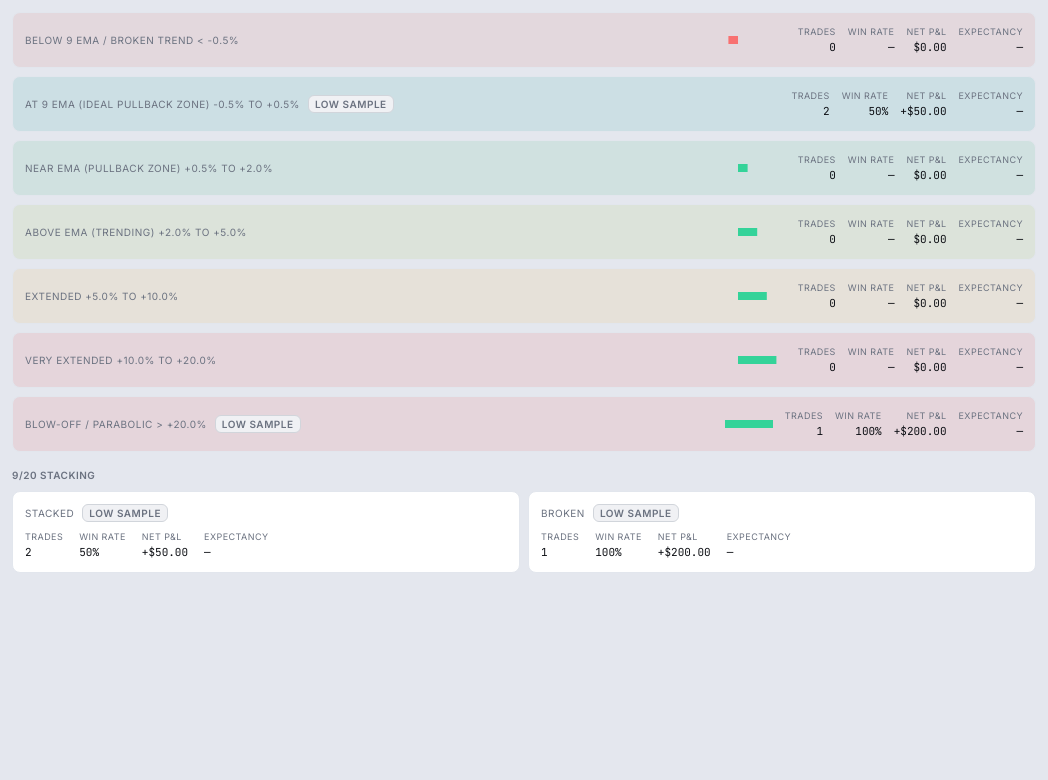
Test: EmaDistanceBand — Section 4 vertical list (integration) › clicking a bucket opens its accordion and mounts the EMA-dist table
What coordinates should you click on to do the following:
click the button "At 9 EMA"
I would click on:
 (162, 104)
Its box is [12,76,1036,132].
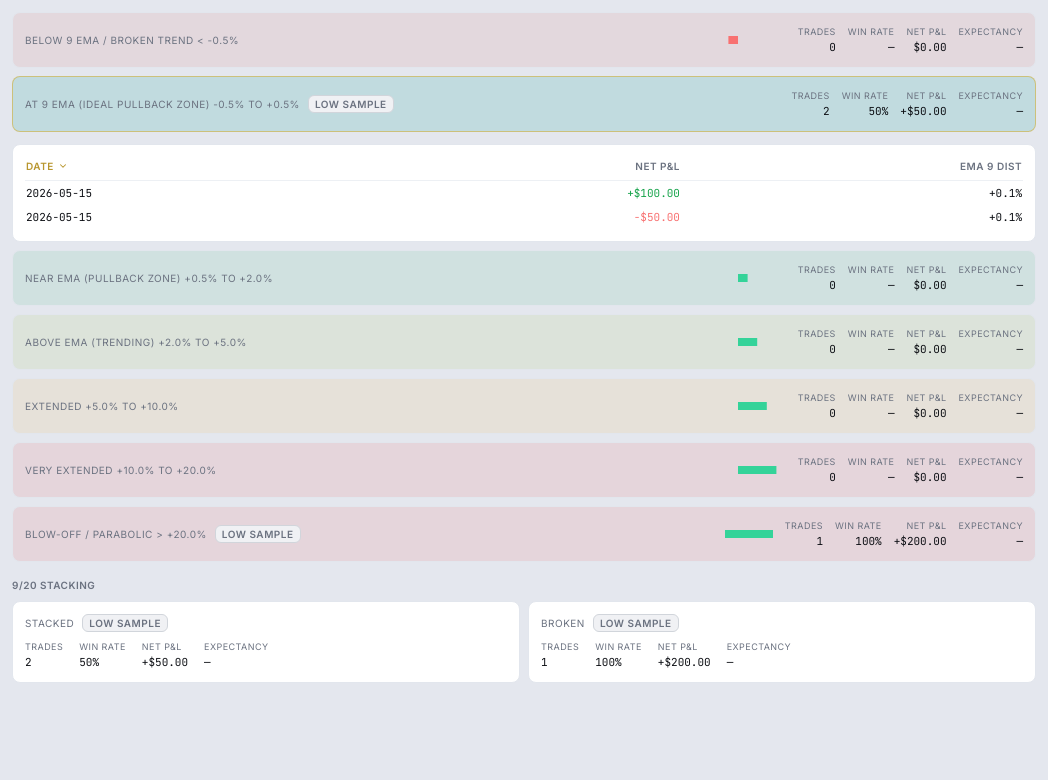
Check: the table is shown, box [25,157,1023,229]
Check: the text "EMA 9 dist" is shown, box [960,158,1022,174]
